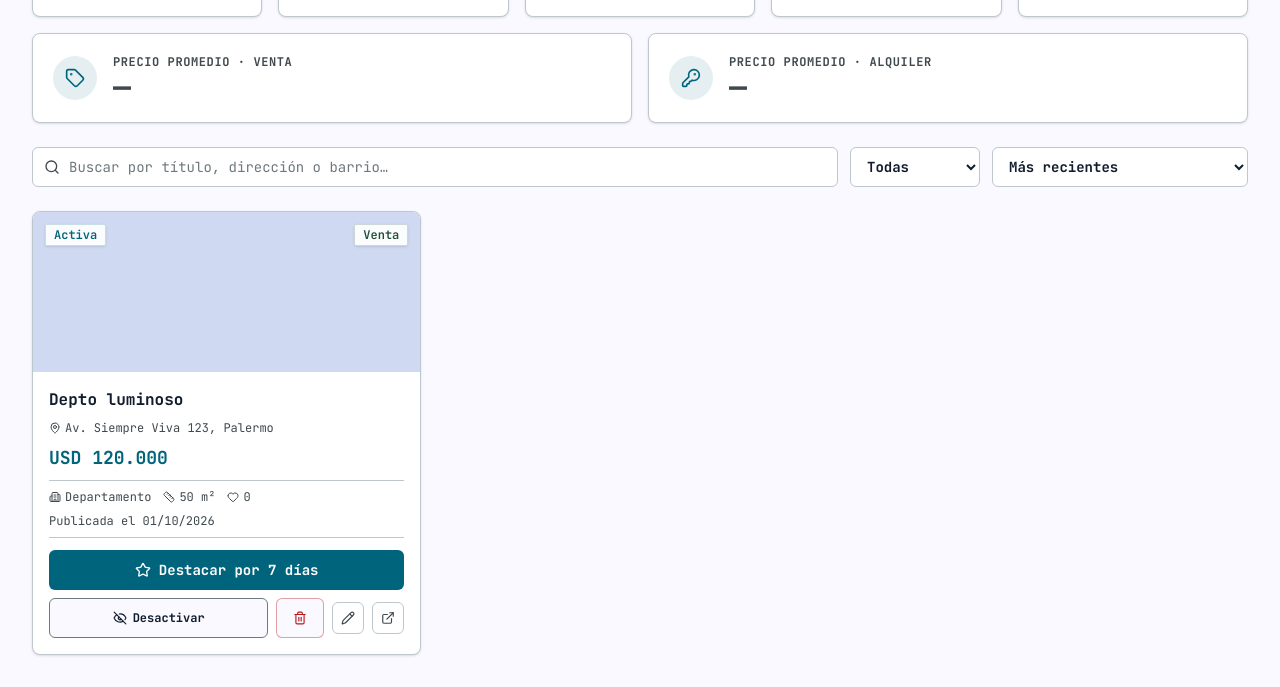
Test: Reserva de destacado cuando no hay lugar › si cancela, no se reserva ni se cobra nada
(page scrolled)
Click the button "Destacar por 7 días": (227, 570) [49, 550, 404, 590]
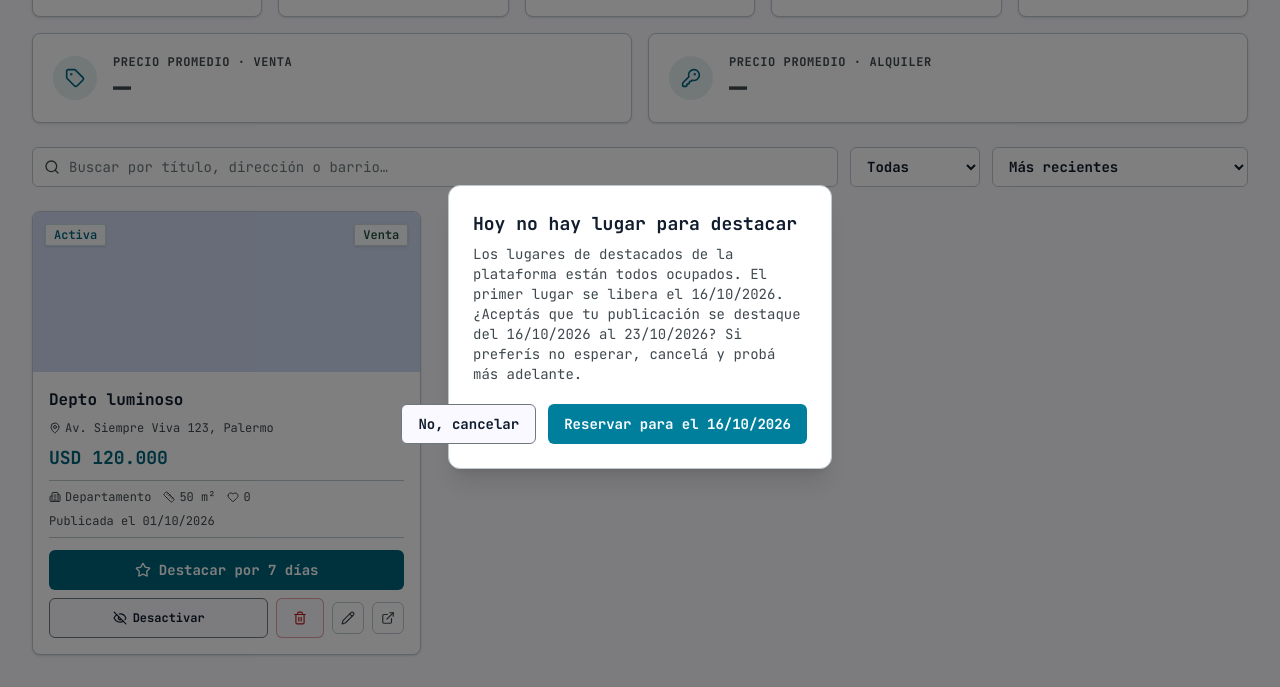
Click the button "No, cancelar": (469, 424) [401, 404, 536, 444]
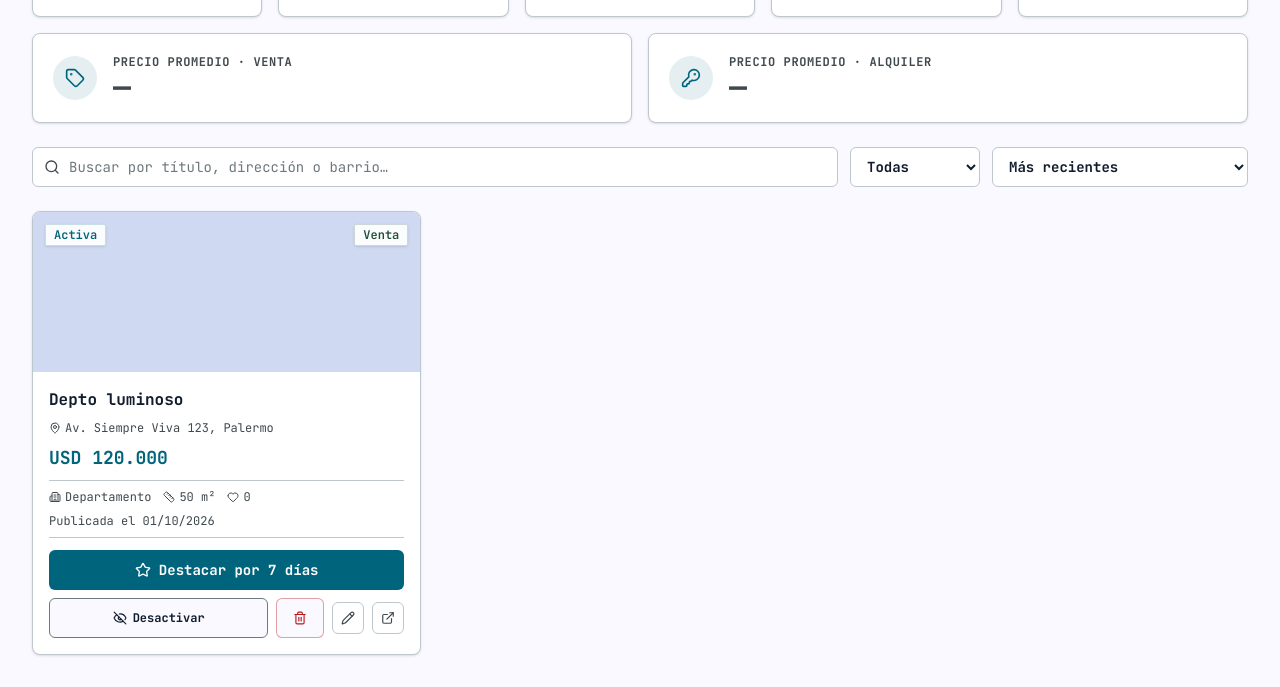
Result: the heading "Hoy no hay lugar" is gone
